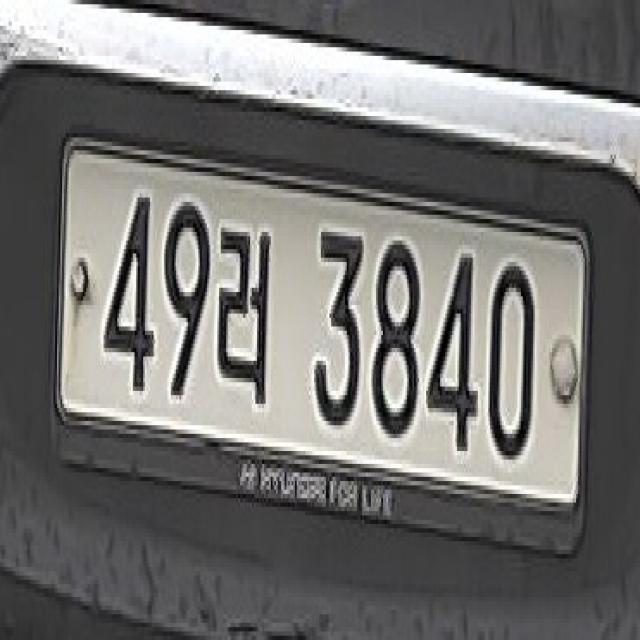0: (480, 243, 538, 466)
3: (307, 220, 365, 440)
4: (102, 170, 158, 422), (426, 230, 480, 478)
8: (370, 230, 420, 440)
9: (160, 191, 212, 421)
leo: (214, 212, 280, 442)
license_plate: (45, 109, 602, 588)
